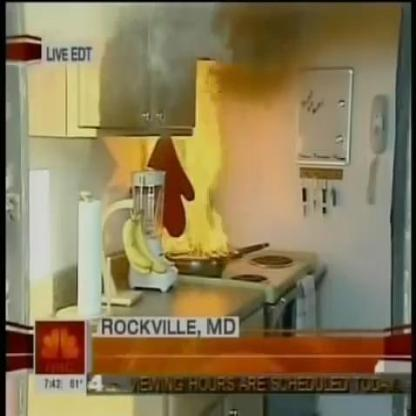fire: (162, 92, 227, 259)
